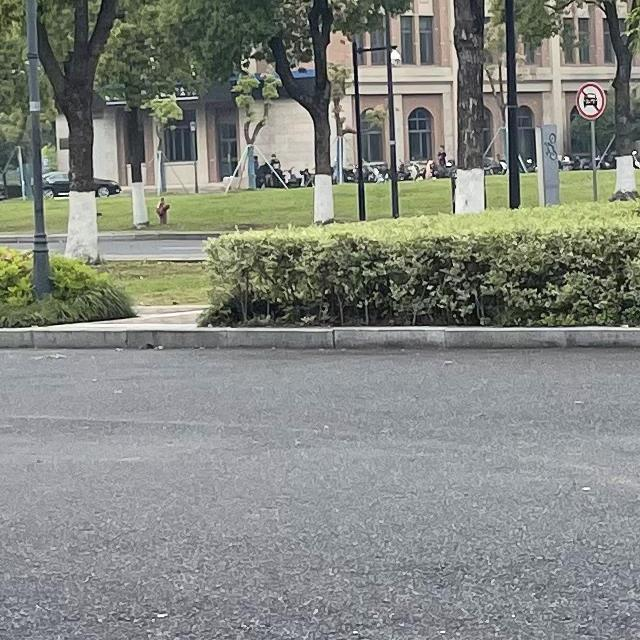curb: (0, 323, 639, 348), (100, 233, 221, 241), (0, 234, 32, 246), (51, 234, 63, 244)
